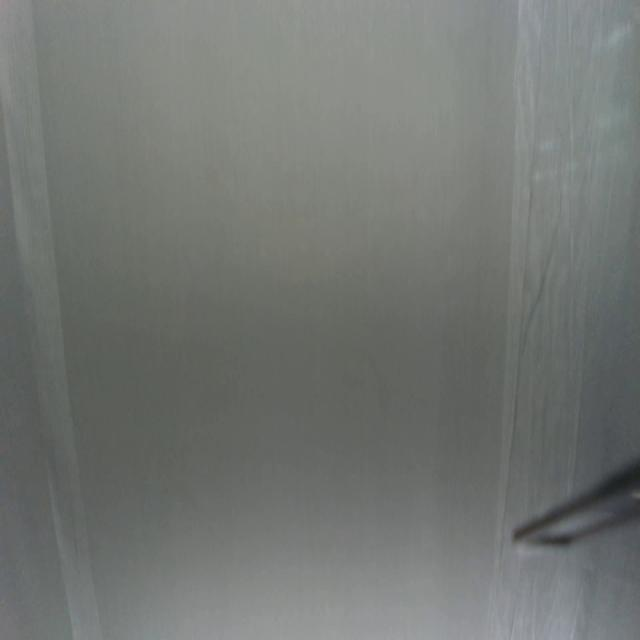crease: (2, 0, 104, 640), (498, 0, 603, 517)
